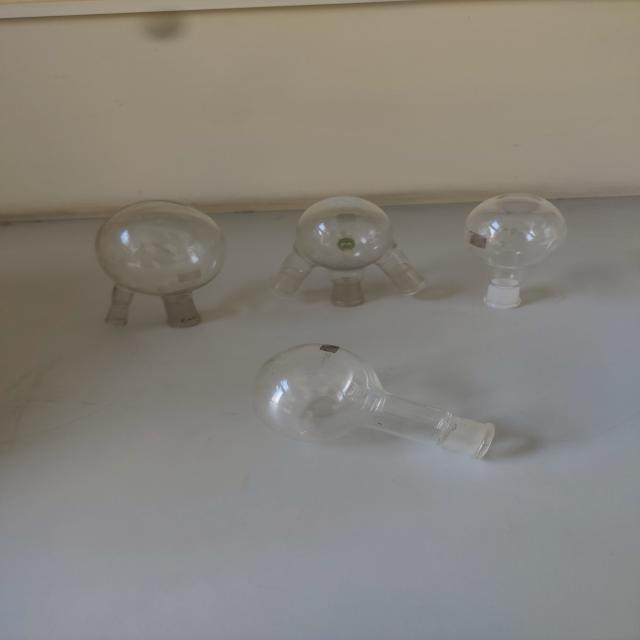Round_Bottom_Flask_Borosilicate_Glass_1_Neck: (222, 332, 538, 496), (446, 135, 572, 335)
Round_Bottom_Flask_Borosilicate_Glass_2_Neck: (80, 187, 238, 353)
Round_Bottom_Flask_Borosilicate_Glass_3_Neck: (261, 181, 434, 329)
